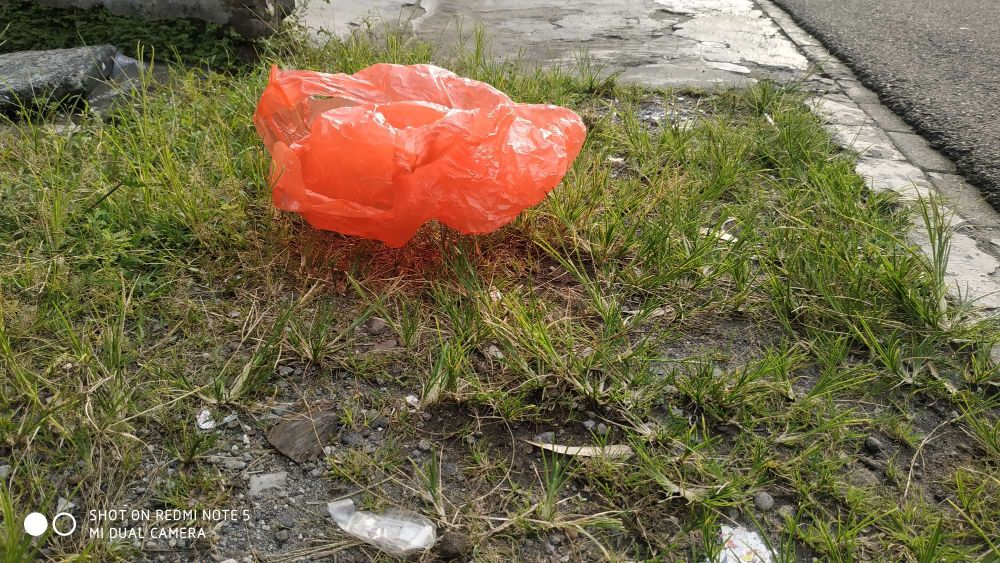plastik: (235, 59, 602, 252)
